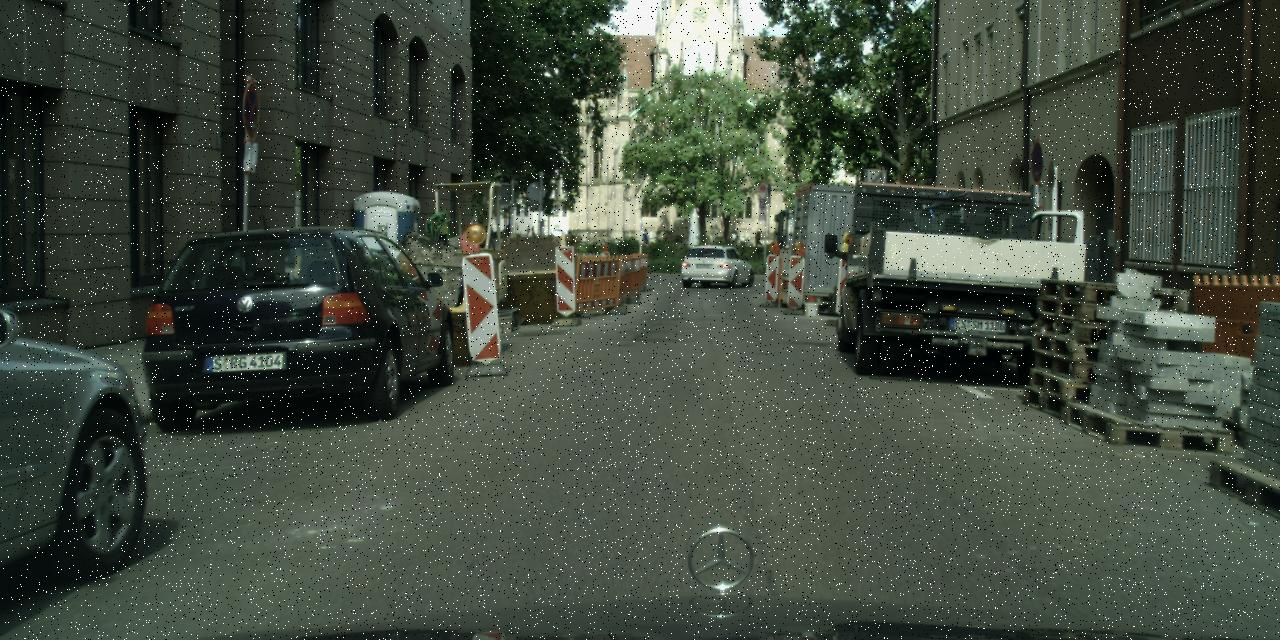ped: (641, 228, 651, 254), (502, 222, 512, 247), (753, 230, 763, 253), (526, 227, 536, 236)
